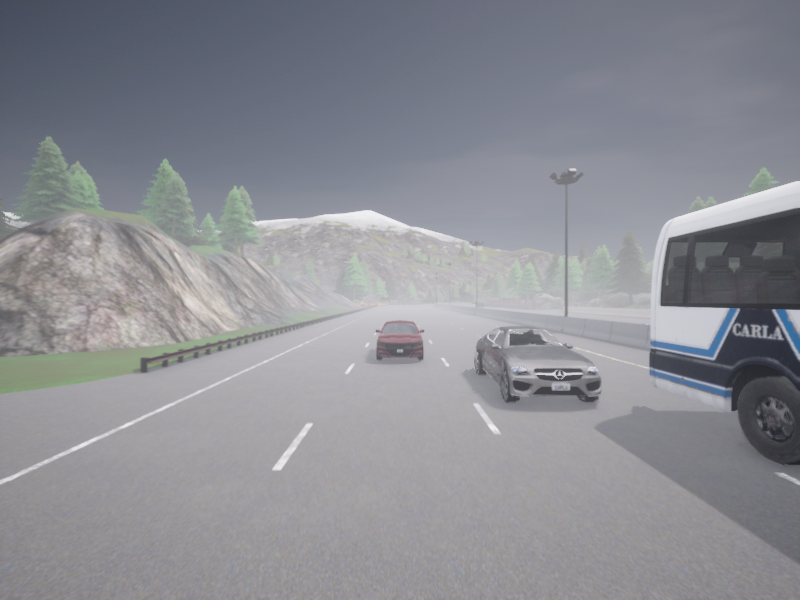vehicle: (649, 181, 799, 464), (475, 326, 601, 402), (375, 320, 424, 360), (477, 301, 483, 307), (473, 301, 475, 303)
